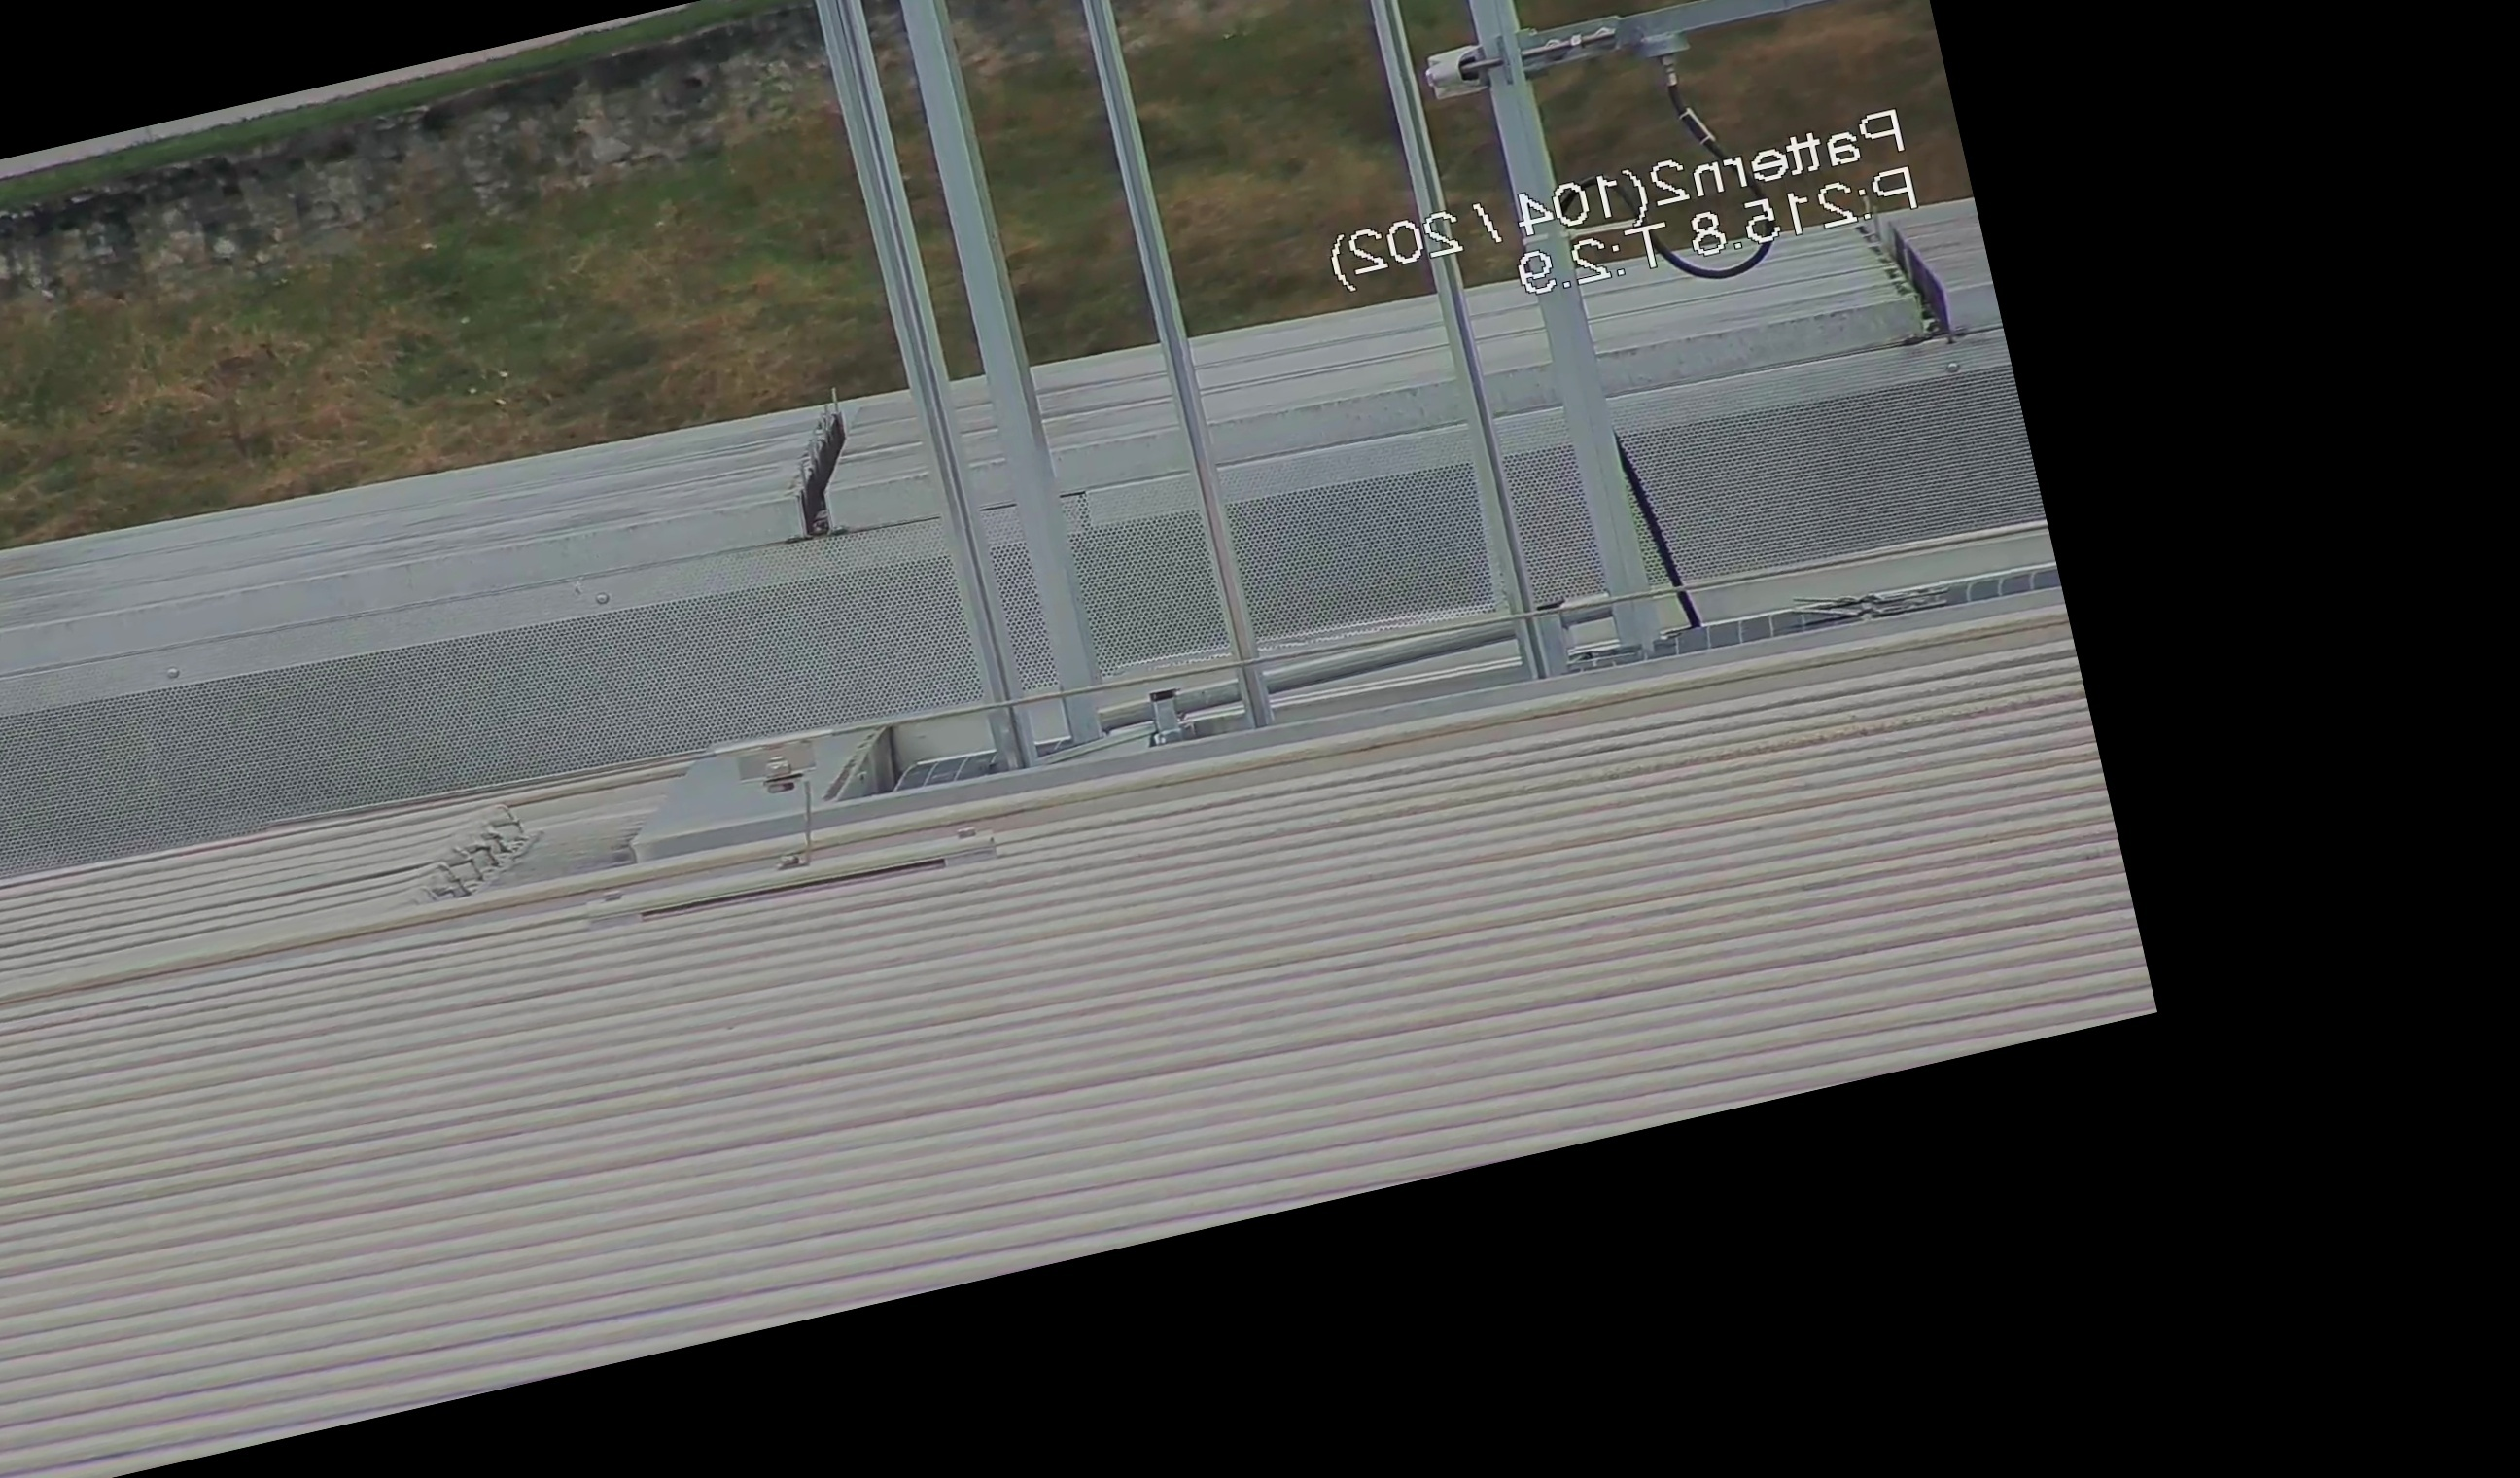Other: (749, 385, 886, 547)
